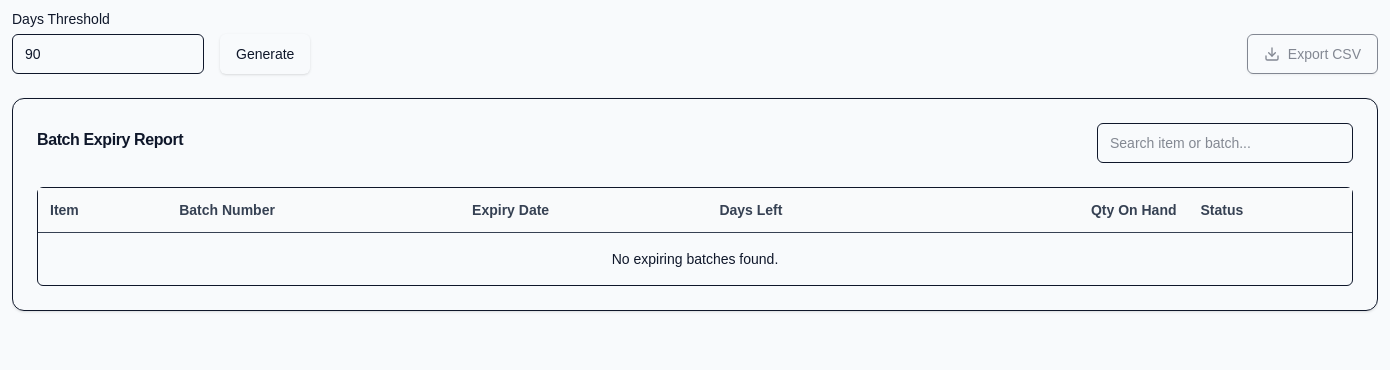
Test: BatchExpiryPage › fetches and displays batch expiry data
Click the button "Generate": (265, 54) x1=220 y1=34 x2=310 y2=74
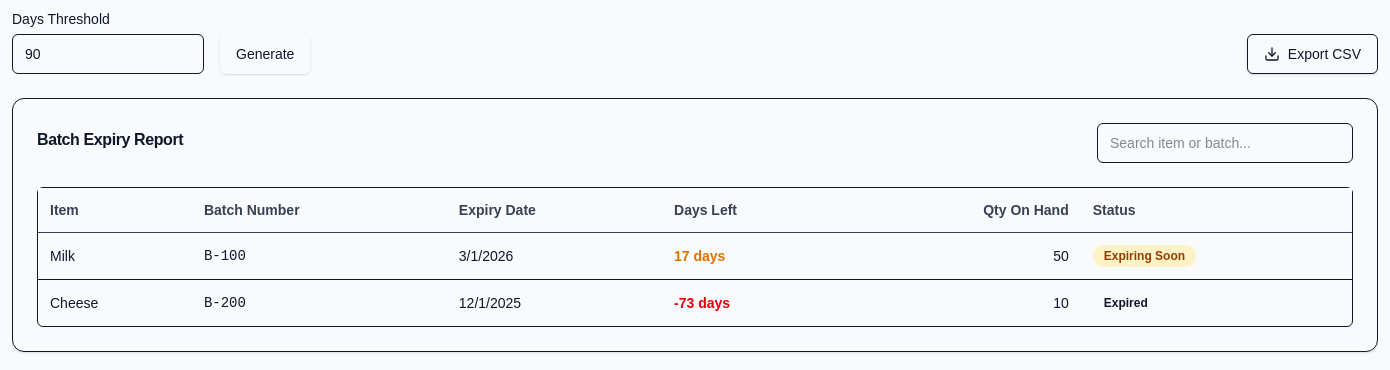
Now the text "Milk" is shown, box x1=38 y1=232 x2=192 y2=280
Now the text "Cheese" is shown, box x1=38 y1=280 x2=192 y2=326
Now the text "Expired" is shown, box x1=1104 y1=296 x2=1148 y2=310
